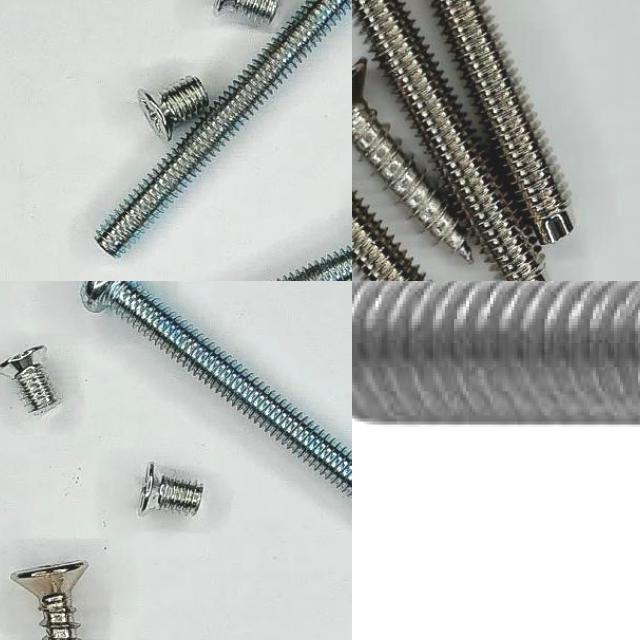Screw: (96, 0, 352, 256), (80, 281, 352, 498), (352, 0, 543, 281), (352, 281, 640, 428), (432, 0, 573, 244), (352, 58, 471, 261), (9, 561, 87, 640), (137, 76, 208, 141), (0, 345, 57, 413), (139, 463, 202, 515), (214, 0, 277, 20)
